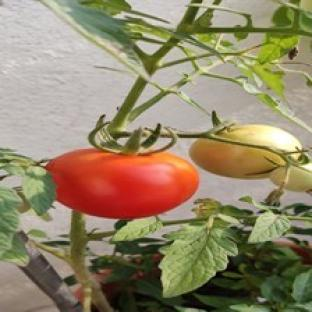Tomato: (46, 148, 199, 218), (190, 138, 284, 179), (269, 163, 311, 192)
